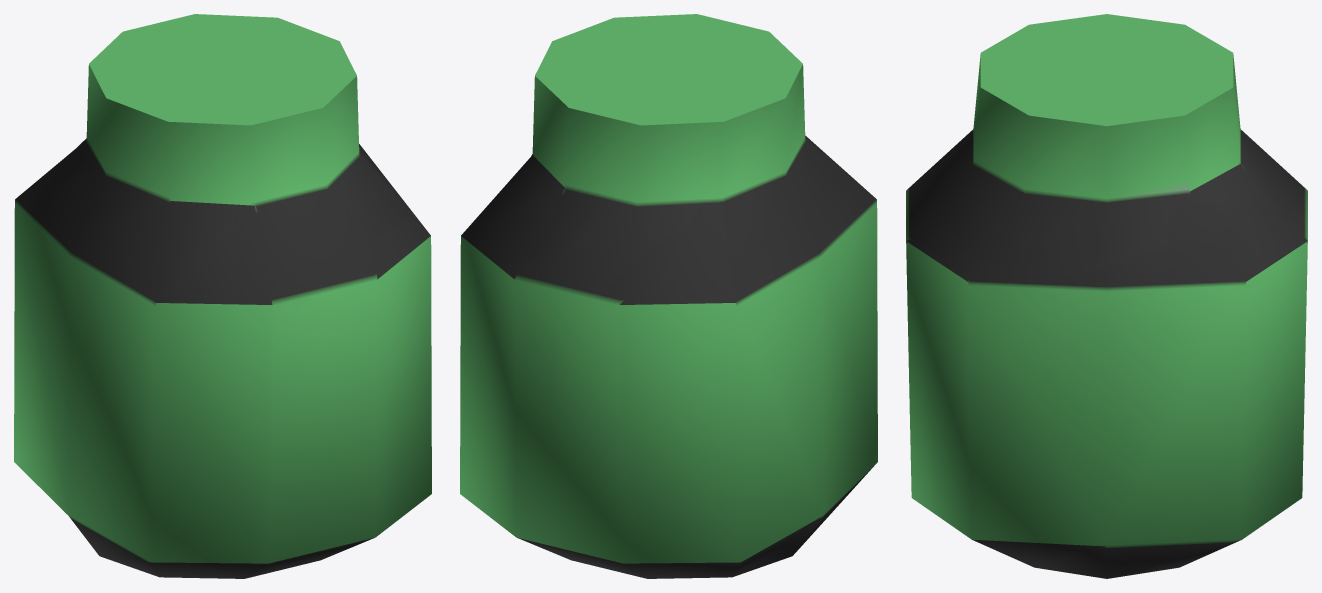
Rendered from JunkiezMassPowder.fbx.
The picture shows the model from 3 angles, left to right: view 1: azimuth 30°, elevation 25°; view 2: azimuth 150°, elevation 25°; view 3: azimuth 270°, elevation 25°; orthographic projection.
Visible parts, largest first — view 1: MassGainer; view 2: MassGainer; view 3: MassGainer.
Part boxes in pixels (x1,y1,x2,y2): MassGainer: (14,14,431,578); MassGainer: (460,14,877,578); MassGainer: (906,14,1307,578).
Bounding box in the file's own units: 7.81 × 11.01 × 8.92.
